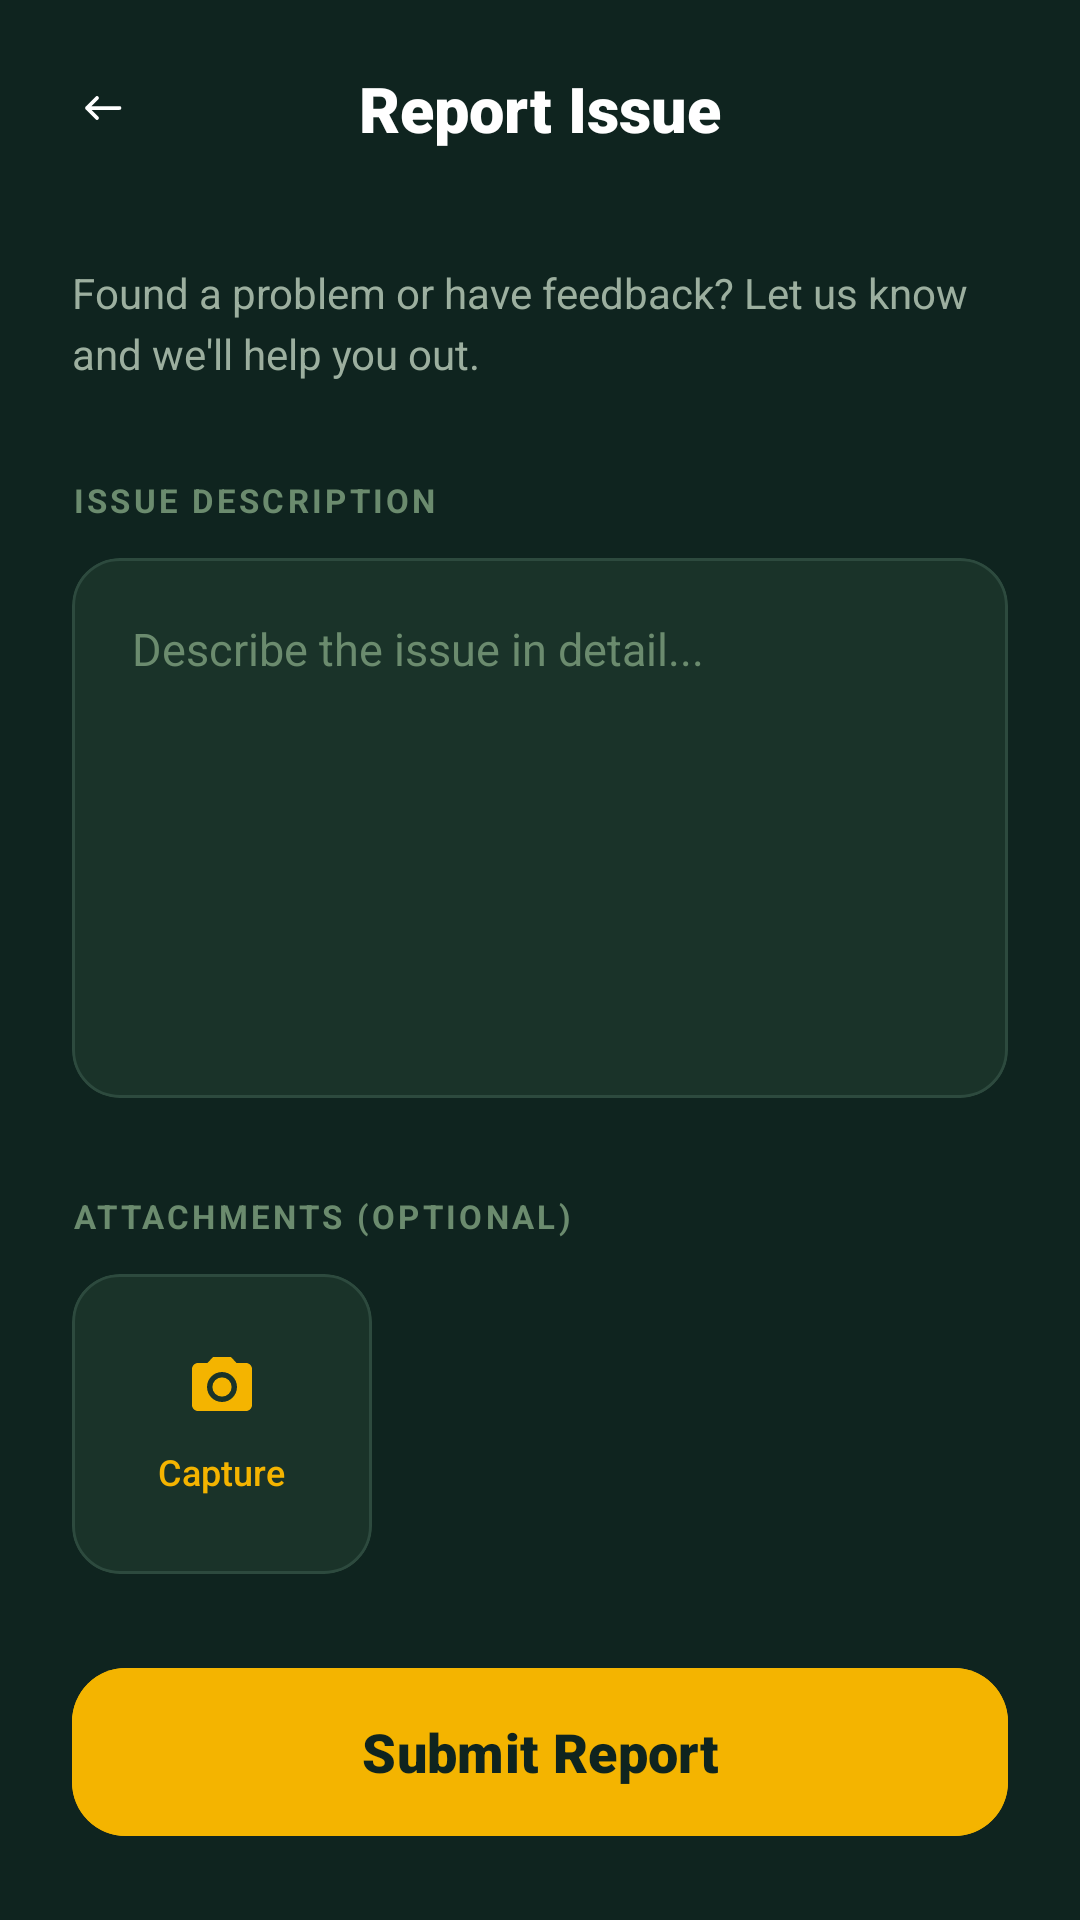

Named icons in this screenshot (1080×1920) and their bounding boxes, (x1, y1, x2, y2):
camera: (192, 1357, 252, 1411)
